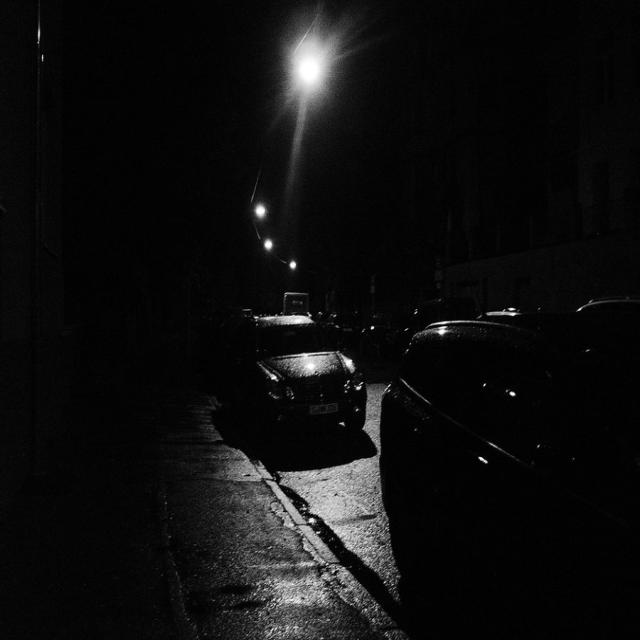Car: (380, 319, 640, 632), (230, 311, 366, 450)
